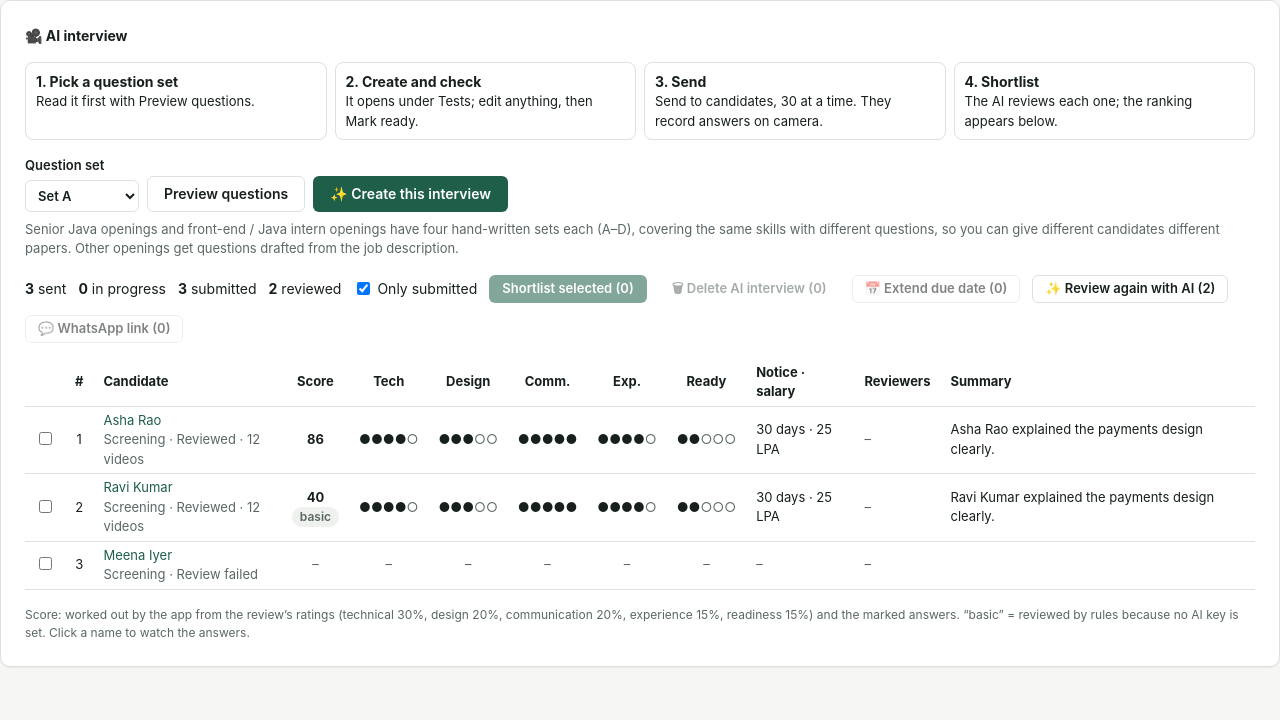
Test: AiInterviewPanel (AINT-07) › reviews again with the AI the interviews it couldn’t review (AINT-24)
This screenshot has width=1280, height=720.
Click the button "✨ Review again with AI (2)" at (1130, 288), box [1032, 274, 1228, 302]
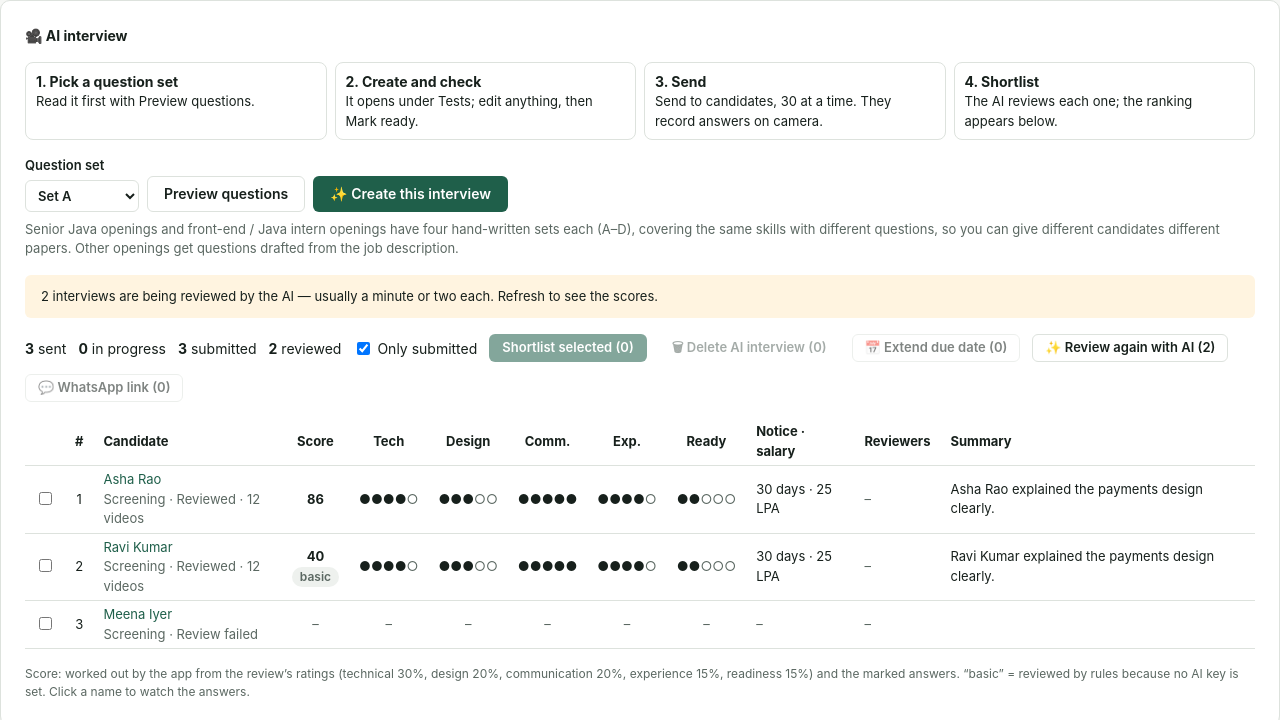
Result: the text "2 interviews are being reviewed by the AI" is shown at [41, 288, 658, 304]
